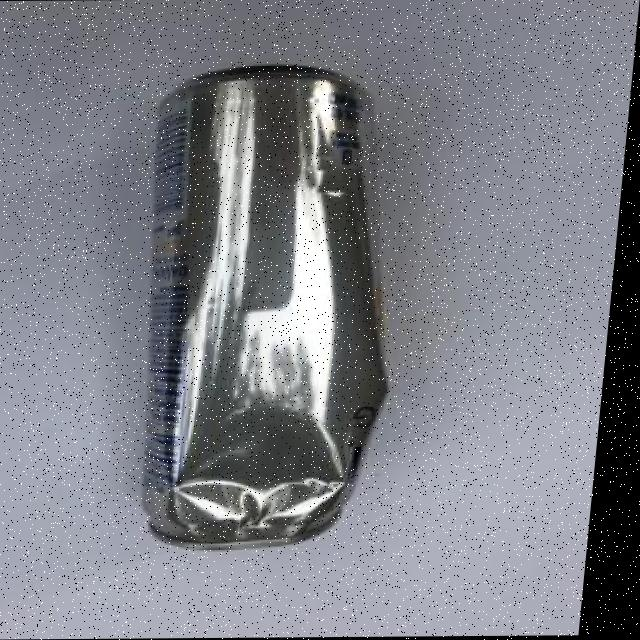metal: (117, 62, 420, 551)
